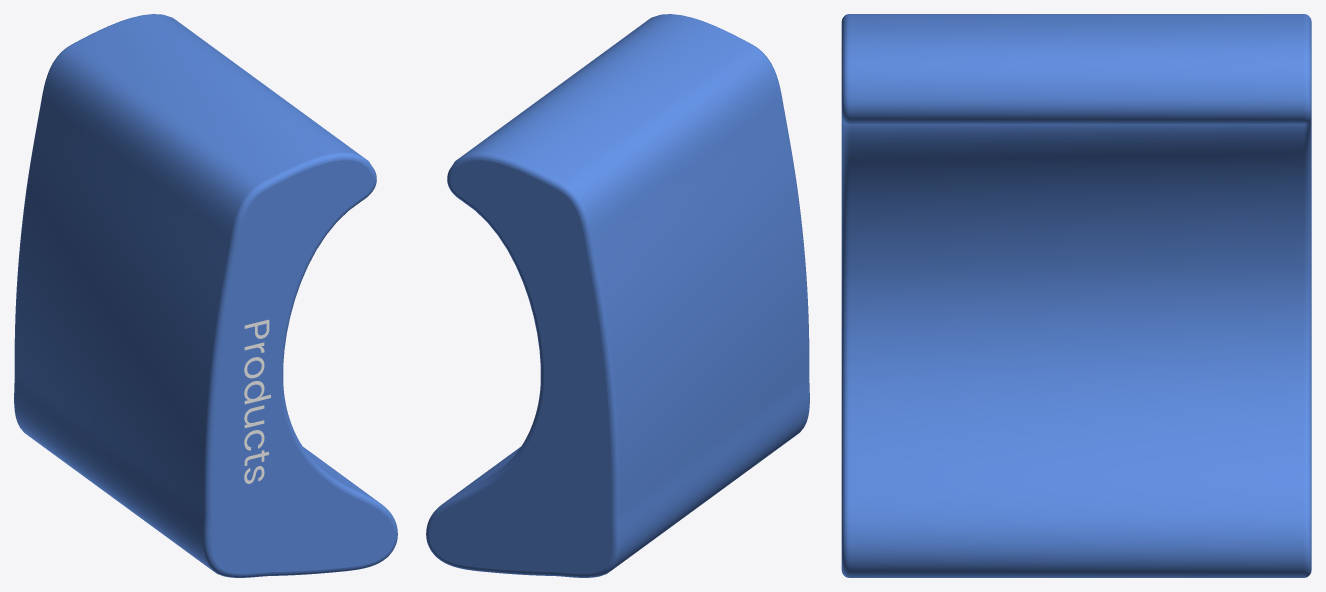
File: left.gltf
3 views of the same model, side by side, from view 1: azimuth 30°, elevation 25°; view 2: azimuth 150°, elevation 25°; view 3: azimuth 270°, elevation 25° (orthographic). The views are drawn at different scales.
Visible parts, largest first — view 1: Blue 02, Text 3; view 2: Blue 02; view 3: Blue 02.
Boxes of the visible parts, x1=… form: Blue 02: x1=14, y1=14, x2=397, y2=577; Text 3: x1=244, y1=319, x2=270, y2=483; Blue 02: x1=426, y1=14, x2=809, y2=577; Blue 02: x1=841, y1=14, x2=1311, y2=577.
Bounding box in the file's own units: 0.1111 × 0.2309 × 0.1938.
